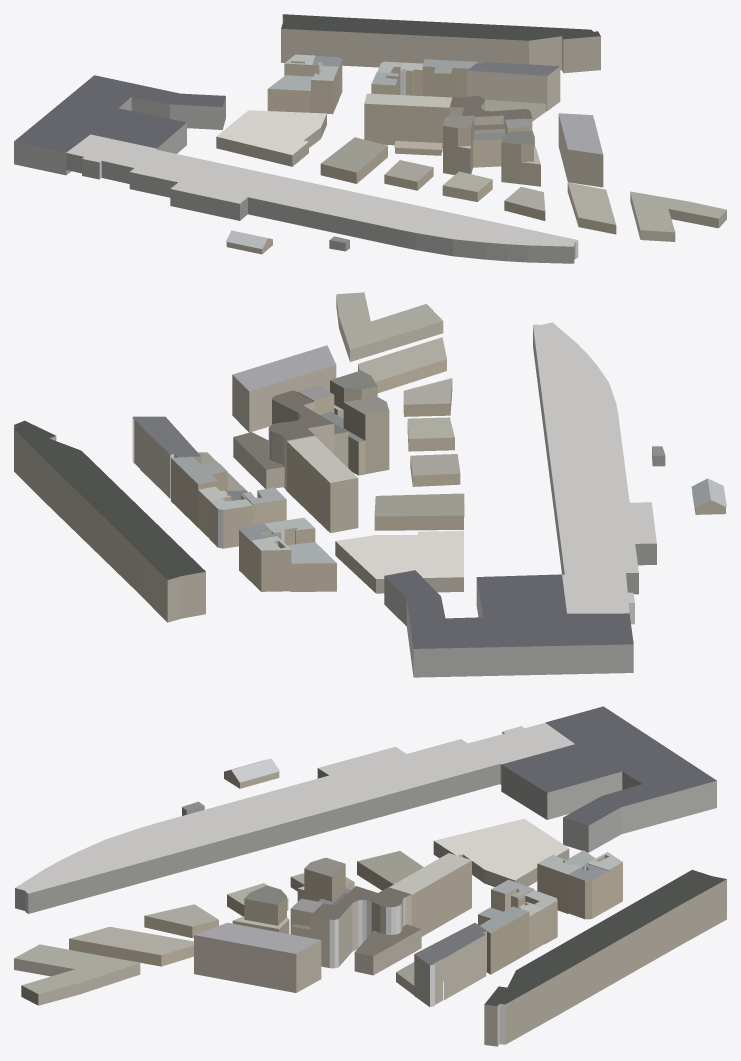
3 renders of one model, top to bottom at view 1: azimuth 30°, elevation 25°; view 2: azimuth 150°, elevation 25°; view 3: azimuth 270°, elevation 25°, orthographic. The views are drawn at different scales.
Visible parts, largest first — view 1: tuile; view 2: tuile; view 3: tuile.
Boxes of the visible parts, x1,y1,x2,y2 form: tuile: (14,14,726,263); tuile: (14,292,726,677); tuile: (14,706,726,1046).
Size of the model in its own units: 330 by 30.78 by 318.
